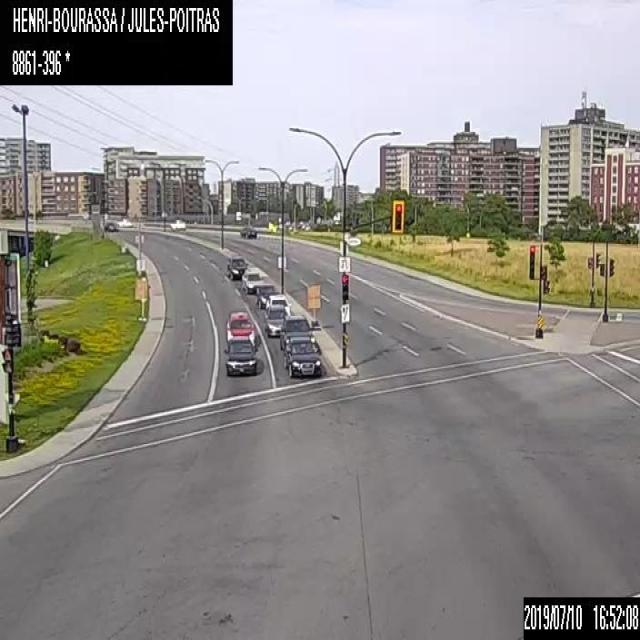vehicle: (283, 333, 321, 378), (223, 337, 257, 376), (225, 310, 255, 353), (279, 315, 312, 349), (263, 304, 289, 337), (254, 283, 278, 308), (264, 293, 290, 316), (241, 268, 263, 293), (226, 255, 248, 279), (239, 226, 256, 238), (169, 218, 186, 229), (103, 220, 115, 231), (117, 217, 130, 226)
